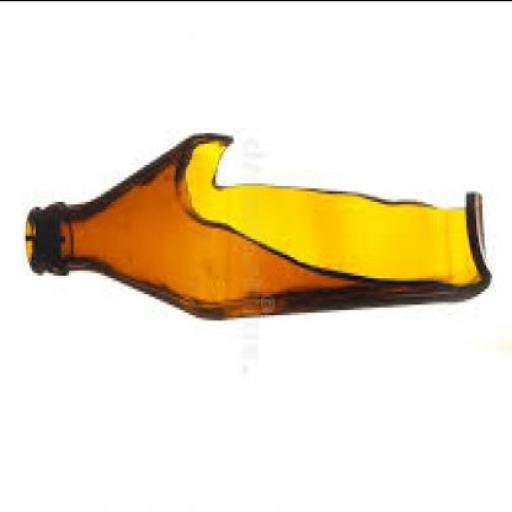glass: (28, 132, 496, 317)
